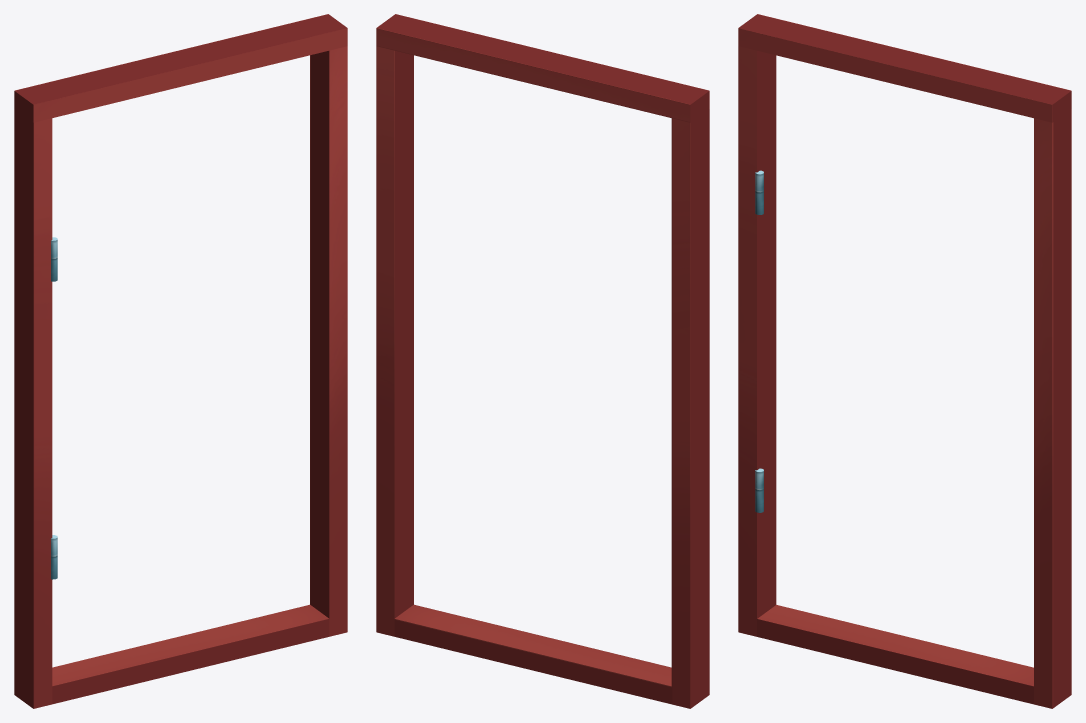
Rendered from Door_frame.FBX.
3 renders of one model, left to right at view 1: azimuth 30°, elevation 25°; view 2: azimuth 150°, elevation 25°; view 3: azimuth 330°, elevation 25°, orthographic.
Visible parts, largest first — view 1: Box067; view 2: Box067; view 3: Box067.
Part boxes in pixels (left/top/right/bottom): Box067: left=14, top=14, right=347, bottom=708; Box067: left=376, top=14, right=709, bottom=708; Box067: left=738, top=14, right=1071, bottom=708.
Size of the model in its own units: 10.56 by 19.4 by 1.21.
